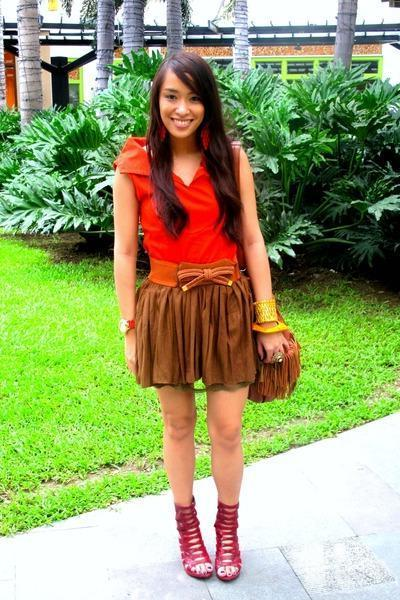short sleeve shirt: (119, 132, 242, 290)
skirt: (122, 270, 269, 391)
